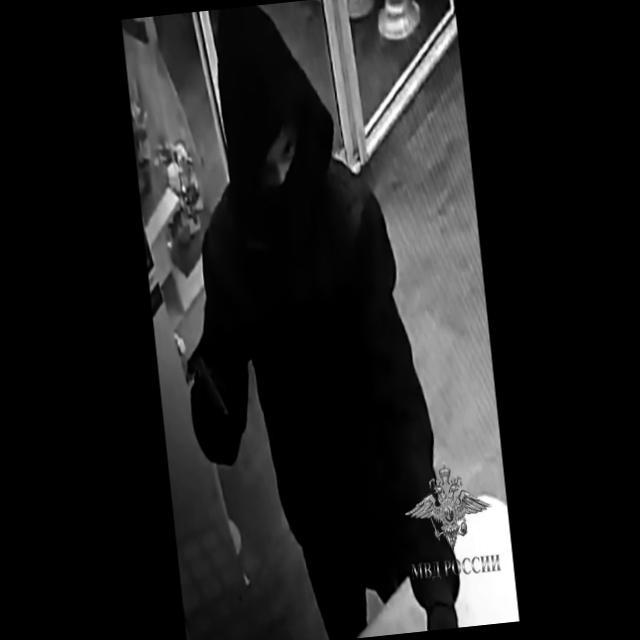gun: (191, 350, 244, 460)
person with a gun: (152, 0, 460, 640)
